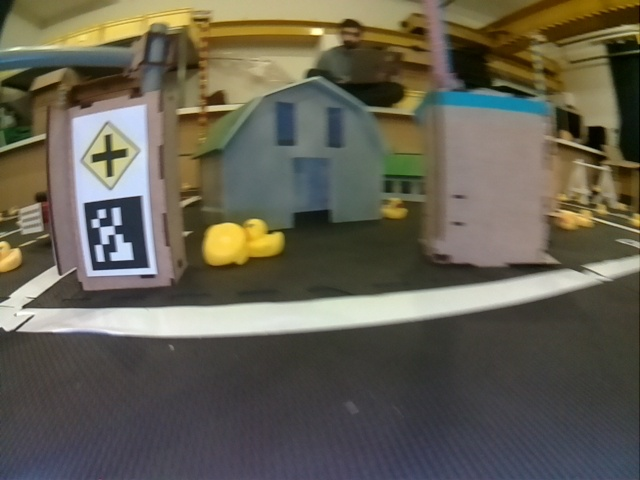Duckie: (202, 221, 247, 263), (246, 217, 284, 256)
Intersection sign: (81, 121, 140, 191)
QR code: (85, 197, 150, 272)
